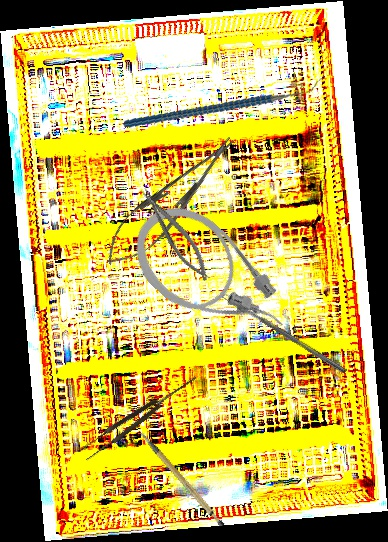Cannula: (116, 188, 303, 368)
Chopper: (122, 48, 325, 157)
Needle Holder: (93, 124, 248, 279), (136, 181, 216, 287)
Scalpel Handle: (140, 421, 226, 536)
Surgical Spoon: (221, 292, 348, 374)
Tissue Forceps: (77, 371, 202, 462)
